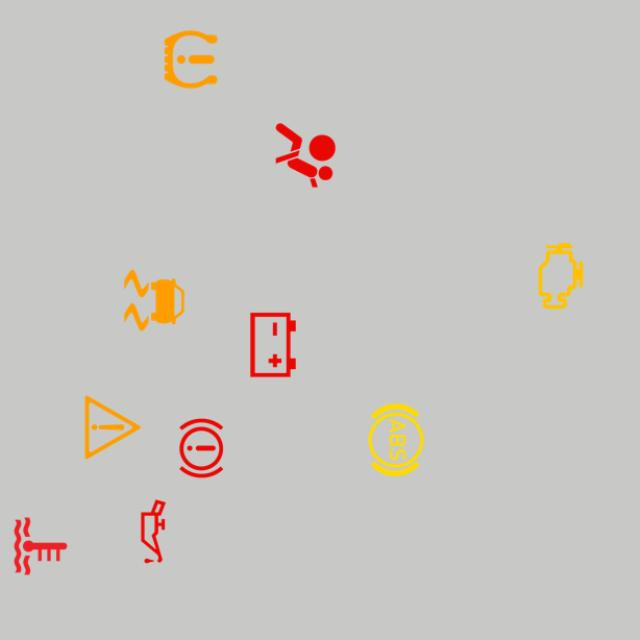Anti Lock Braking System: (356, 400, 436, 480)
Braking System Issue: (162, 408, 240, 488)
Charging System Issue: (234, 306, 312, 384)
Check Engine: (522, 237, 600, 316)
Electronic Stability Problem -ESP-: (115, 260, 194, 340)
Engine Overheating Warning Light: (1, 506, 80, 586)
Low Engine Oil Warning Light: (114, 492, 192, 571)
Low Tire Pressure Warning Light: (151, 20, 230, 99)
Master warning light: (73, 388, 152, 467)
SRS-Airbag: (266, 116, 345, 195)
